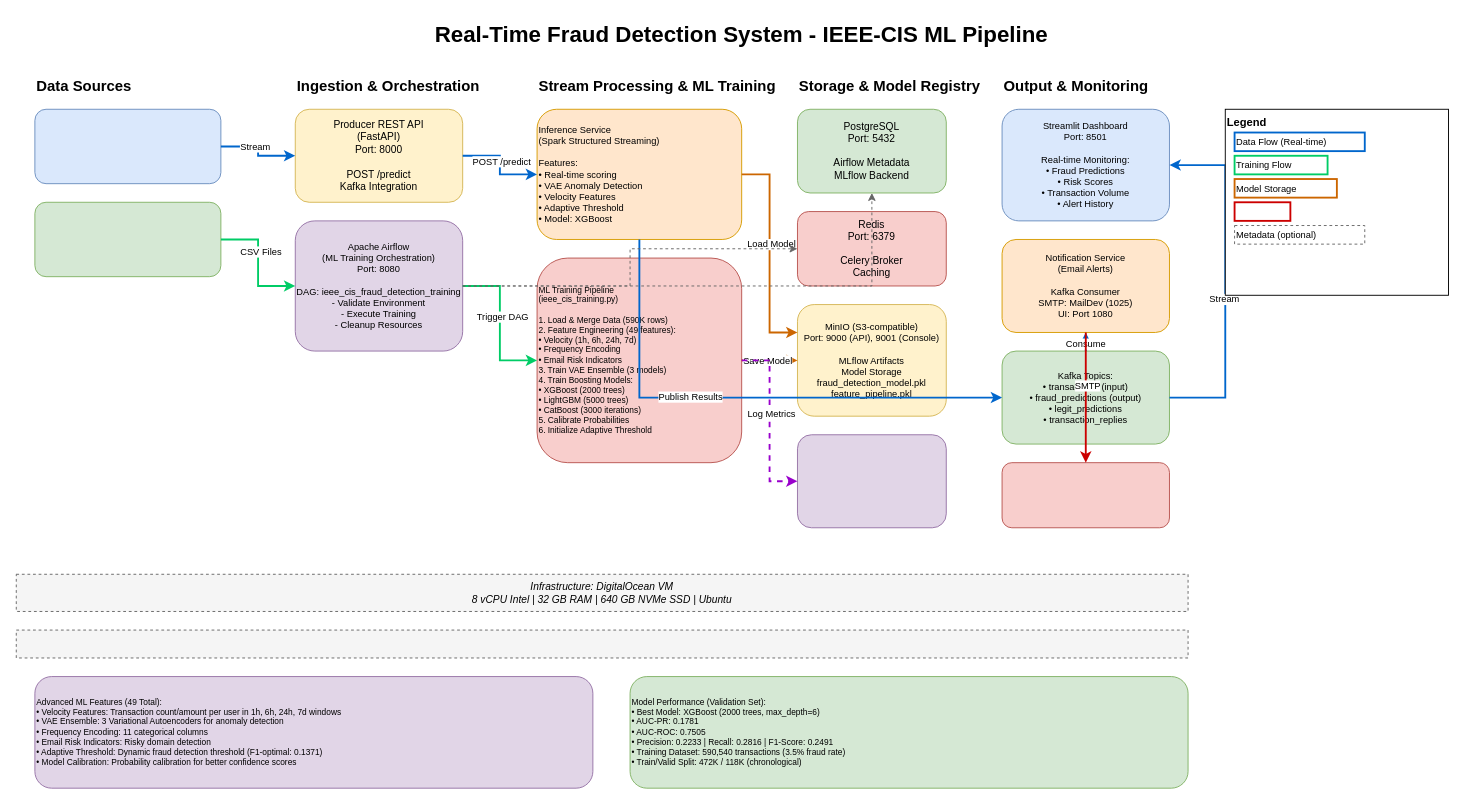
Image size: 1465x804. Some labels were removed from this diagram. Each missing label, with the centre of its shape:
"Alerts" belongs at point (1262, 211).
"Confluent Kafka Cloud (Transaction Stream)" belongs at point (127, 146).
"Docker Network: fraud-detection" belongs at point (601, 643).
"IEEE-CIS Dataset 590K Transactions 144K Identity Records" belongs at point (127, 239).
"MailDev Port: 1080 Email Testing UI" belongs at point (1085, 495).
"MLflow Server Port: 5000 Experiment Tracking Model Registry Metrics & Parameters" belongs at point (871, 481).
